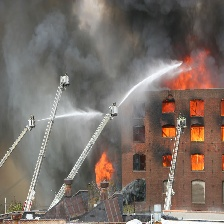fire: (160, 54, 224, 172), (87, 152, 119, 192)
smoke: (3, 4, 103, 186), (9, 2, 224, 85)
